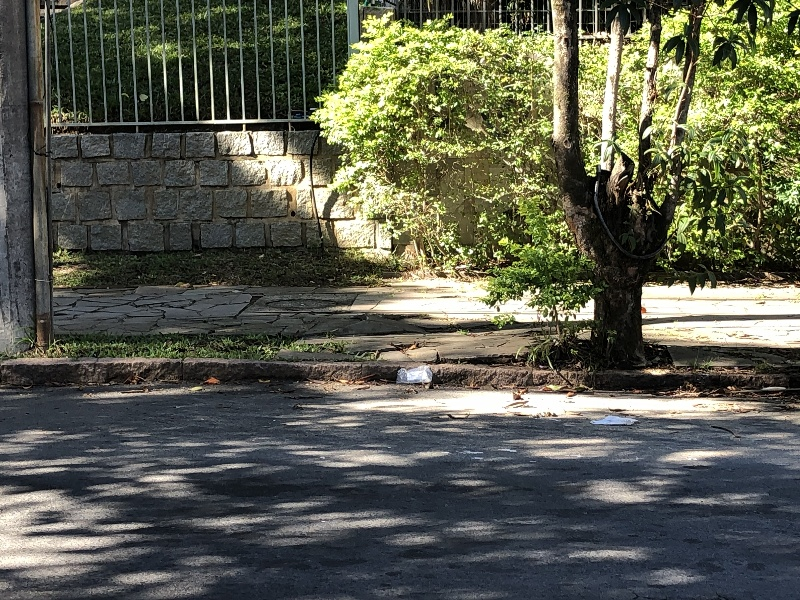v17: (2, 314, 793, 443)
